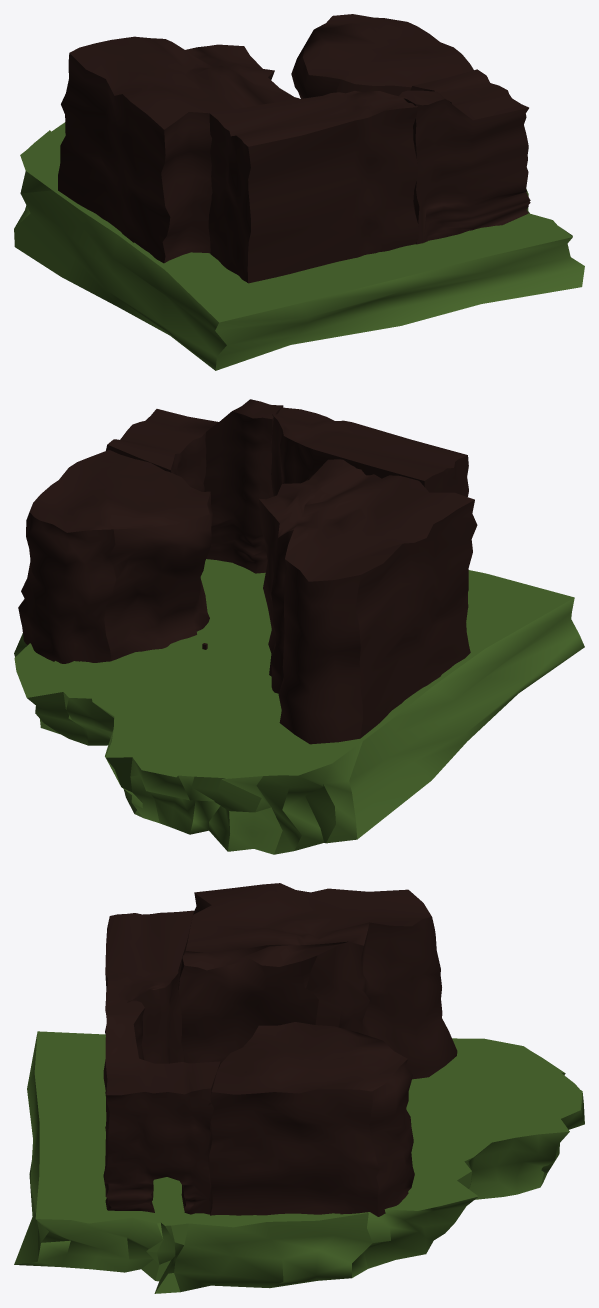
The model's file is Playa.fbx.
3 renders of one model, top to bottom at view 1: azimuth 30°, elevation 25°; view 2: azimuth 150°, elevation 25°; view 3: azimuth 270°, elevation 25°, orthographic. The views are drawn at different scales.
Parts seen in each view (by area): view 1: Cube, SecB, SecA, SecD, SecC; view 2: Cube, SecA, SecC, SecD, SecB; view 3: Cube, SecA, SecC, SecD, SecB.
Part boxes in pixels (bbox=[...]): Cube: bbox=[14, 122, 584, 370]; SecB: bbox=[208, 91, 418, 283]; SecA: bbox=[58, 36, 299, 263]; SecD: bbox=[399, 69, 530, 244]; SecC: bbox=[291, 14, 473, 98]; Cube: bbox=[14, 559, 584, 854]; SecA: bbox=[259, 459, 477, 744]; SecC: bbox=[18, 450, 212, 663]; SecD: bbox=[106, 399, 283, 573]; SecB: bbox=[271, 407, 468, 607]; Cube: bbox=[14, 1031, 584, 1293]; SecA: bbox=[178, 883, 457, 1079]; SecC: bbox=[208, 1022, 414, 1216]; SecD: bbox=[103, 1000, 220, 1214]; SecB: bbox=[105, 910, 193, 1063].
Size of what is drawn, in the model's own units: 14349 by 8221 by 16584.
